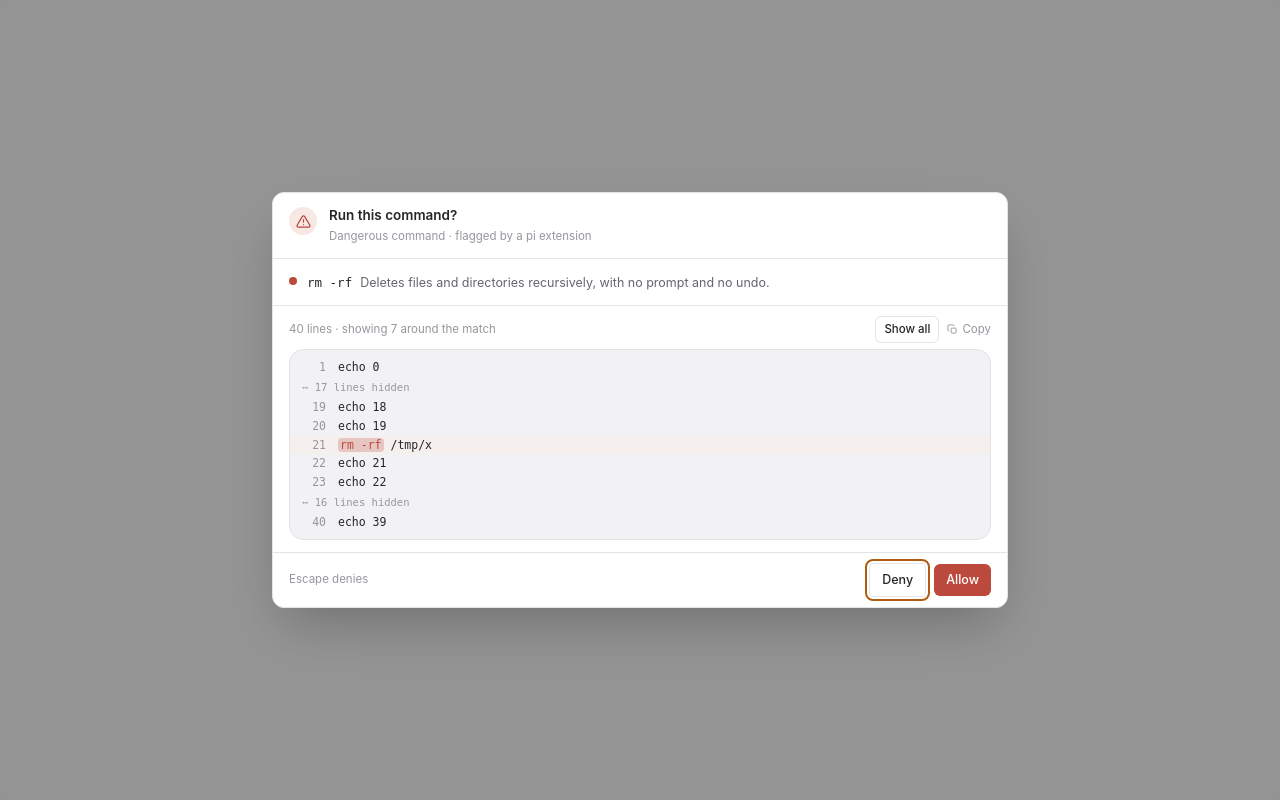
Scenario: ExtensionDialogHost / command approval › folds a long command down to the flagged lines
Click the button "Show all". click: (907,330)
box: x1=875 y1=316 x2=939 y2=343
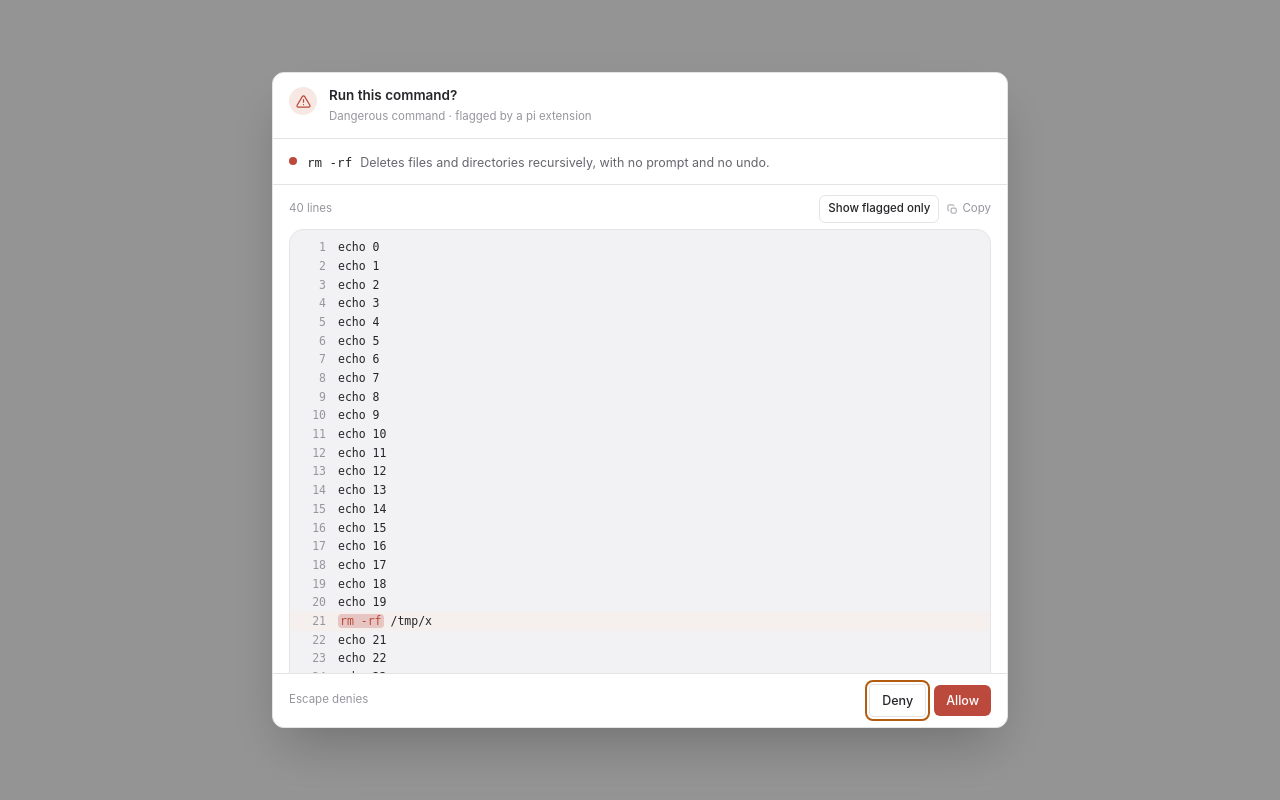
Expected: the text "lines hidden" is gone
